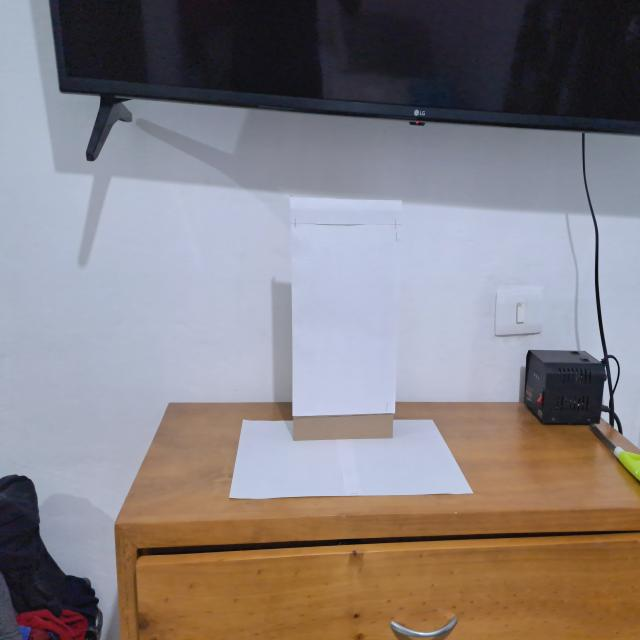wall: (291, 195, 396, 441)
